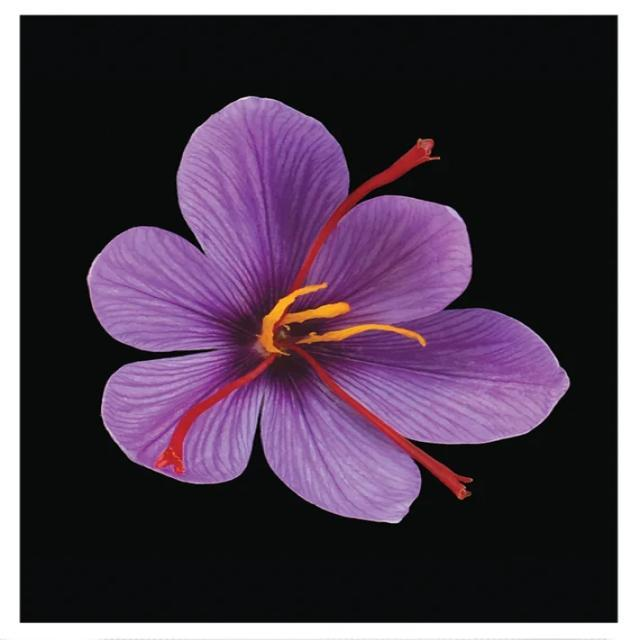Flower: (137, 166, 500, 516)
stigma: (294, 349, 480, 499), (292, 134, 436, 288), (152, 358, 272, 484)
